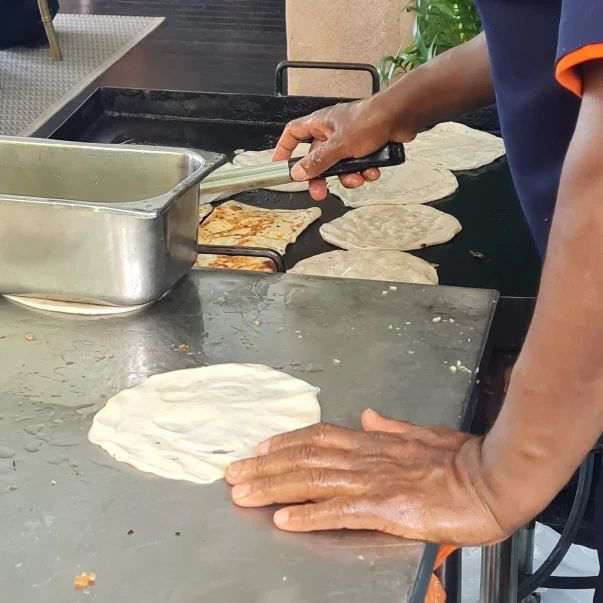Prata: (203, 199, 326, 258)
